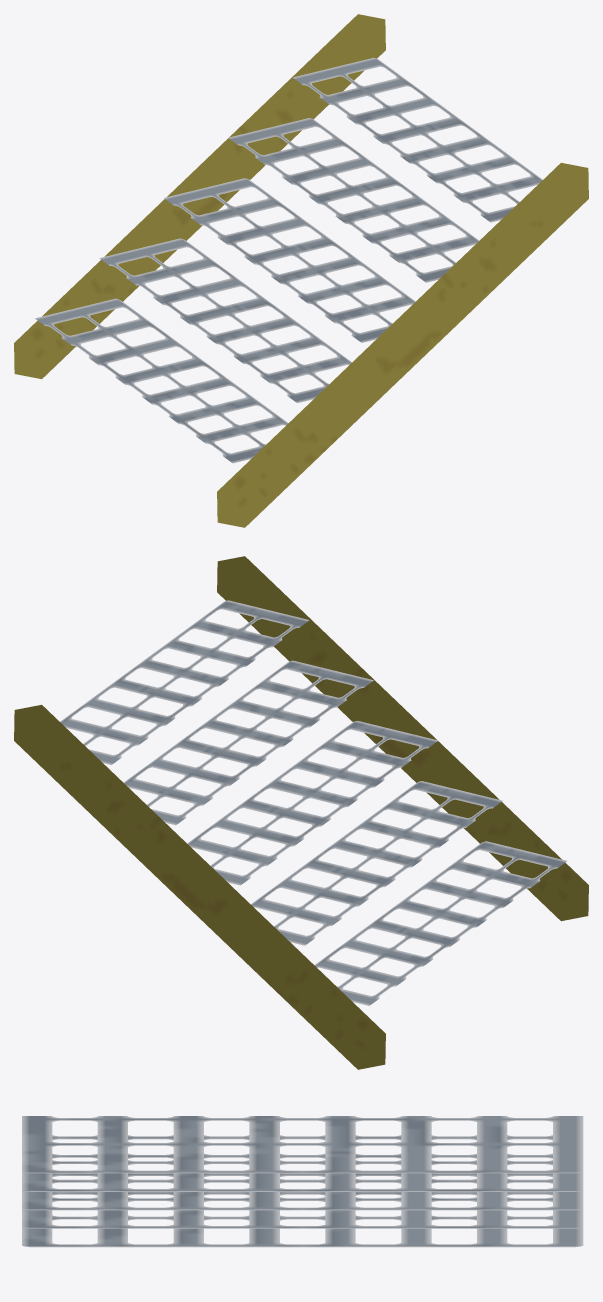
Rendered from louti.fbx.
The picture shows the model from 3 angles, top to bottom: view 1: azimuth 30°, elevation 25°; view 2: azimuth 150°, elevation 25°; view 3: azimuth 270°, elevation 25°; orthographic projection. The views are drawn at different scales.
Visible parts, largest first — view 1: 平面.016; view 2: 平面.016; view 3: 平面.016.
Part boxes in pixels (x1,y1,x2,y2): 平面.016: (14,14,588,527); 平面.016: (14,556,588,1069); 平面.016: (22,1116,583,1247).
Size of the model in its own units: 259 by 192 by 245.
